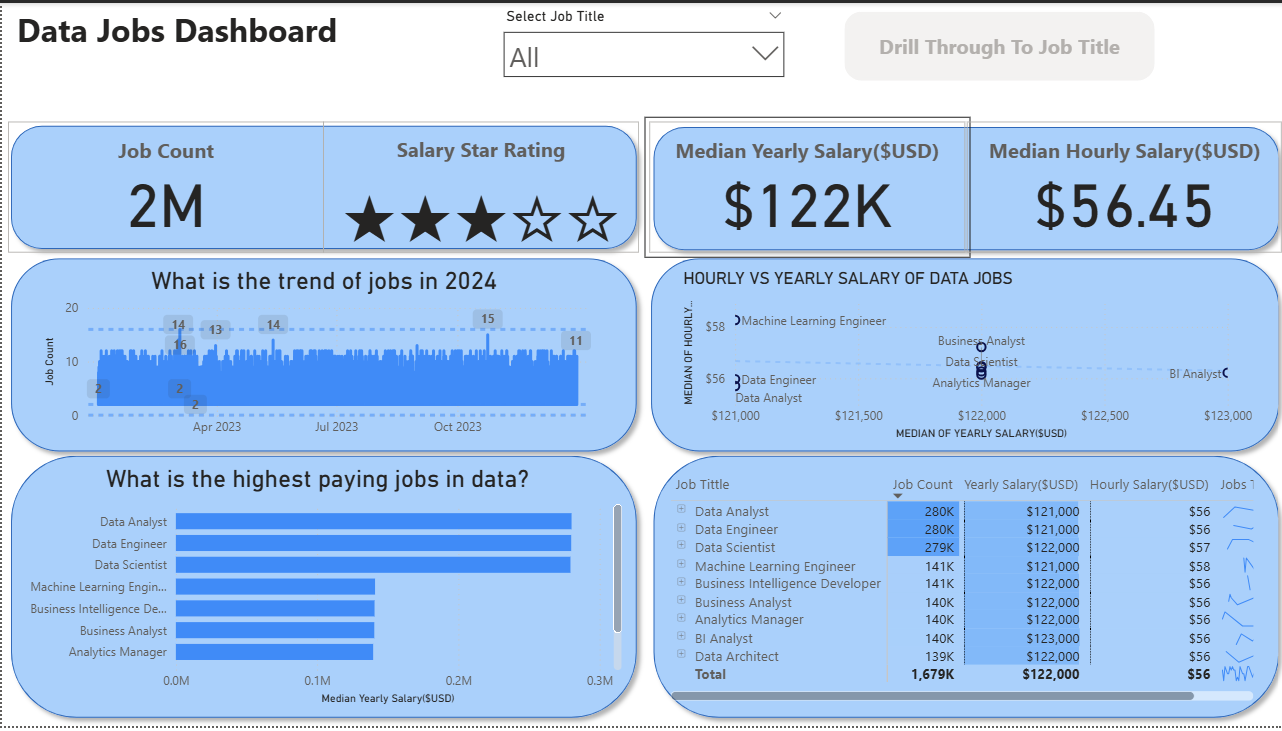

The dashboard page shown, as its layout file describes it:
{"tool":"powerbi","page":{"name":"Data Jobs Dashboard","canvas":[1280,720],"ordinal":0},"visuals":[{"type":"group","id":"g1","title":"Background","box":[0,113.2,1280,607.1],"z":0},{"type":"shape","box":[0,113.2,640.6,140.6],"z":0,"group":"g1"},{"type":"textbox","box":[10,0,338.4,52.2],"z":1000},{"type":"shape","box":[639.4,114.4,640.6,140.6],"z":1000,"group":"g1"},{"type":"slicer","fields":{"Values":["jobs_posting_flat.job_title_short"]},"box":[488.9,0,299.8,77.1],"z":2000},{"type":"shape","box":[0,245.1,640.6,210.2],"z":2000,"group":"g1"},{"type":"cardVisual","fields":{"Data":["Median(jobs_posting_flat.salary_year_avg)"]},"box":[639.4,113.2,324.7,140.6],"z":3000},{"type":"shape","box":[636.9,245.1,643.1,210.2],"z":3000,"group":"g1"},{"type":"cardVisual","fields":{"Data":["Median(jobs_posting_flat.salary_hour_avg)"]},"box":[955.4,113.2,324.7,140.6],"z":4000},{"type":"shape","box":[0,441.6,640.6,278.6],"z":4000,"group":"g1"},{"type":"cardVisual","fields":{"Data":["jobs_posting_flat.Salary Star Rating"]},"box":[314.7,113.2,324.7,140.6],"z":5000},{"type":"shape","box":[639.4,441.6,640.6,278.6],"z":5000,"group":"g1"},{"type":"cardVisual","fields":{"Data":["CountNonNull(jobs_posting_flat.job_title_short)"]},"box":[1.2,113.2,324.7,140.6],"z":6000},{"type":"lineChart","title":"What is the trend of jobs in 2024","fields":{"Y":["CountNonNull(jobs_posting_flat.job_title_short)"],"Category":["jobs_posting_flat.job_posted_date"]},"box":[37.3,262.5,566,177.9],"z":7000},{"type":"barChart","title":"What is the highest paying jobs in data?","fields":{"Category":["jobs_posting_flat.job_title_short"],"Y":["CountNonNull(jobs_posting_flat.job_title_short)"]},"box":[6.2,459,615.8,243.8],"z":8000},{"type":"scatterChart","title":"HOURLY VS YEARLY SALARY OF DATA JOBS","fields":{"X":["Median(jobs_posting_flat.salary_year_avg)"],"Y":["Median(jobs_posting_flat.salary_hour_avg)"],"Series":["jobs_posting_flat.job_title_short"]},"box":[673,263.7,576,175.4],"z":9000},{"type":"pivotTable","fields":{"Rows":["jobs_posting_flat.job_title_short","jobs_posting_flat.job_posted_date"],"Values":["CountNonNull(jobs_posting_flat.job_title_short)","Median(jobs_posting_flat.salary_year_avg)","Median(jobs_posting_flat.salary_hour_avg)","SparklineData(CountNonNull(jobs_posting_flat.job_title_short)_[jobs_posting_flat.job_posted_date])"]},"box":[660.5,464,589.6,235.1],"z":10000},{"type":"actionButton","box":[838.4,8.7,308.5,68.4],"z":12000}]}

Visuals, with their boxes in screenshot pixels (x1, y1, x2, y2), scaled from the page's 1280x720 canvas onto the 1282x731 screenshot:
"Background" group: (left=0, top=115, right=1281, bottom=730)
shape: (left=0, top=115, right=642, bottom=258)
textbox: (left=10, top=0, right=349, bottom=53)
shape: (left=640, top=116, right=1281, bottom=259)
slicer - jobs_posting_flat.job_title_short: (left=490, top=0, right=790, bottom=78)
shape: (left=0, top=249, right=642, bottom=462)
cardVisual - Median(jobs_posting_flat.salary_year_avg): (left=640, top=115, right=966, bottom=258)
shape: (left=638, top=249, right=1281, bottom=462)
cardVisual - Median(jobs_posting_flat.salary_hour_avg): (left=957, top=115, right=1281, bottom=258)
shape: (left=0, top=448, right=642, bottom=730)
cardVisual - jobs_posting_flat.Salary Star Rating: (left=315, top=115, right=640, bottom=258)
shape: (left=640, top=448, right=1281, bottom=730)
cardVisual - CountNonNull(jobs_posting_flat.job_title_short): (left=1, top=115, right=326, bottom=258)
"What is the trend of jobs in 2024" lineChart: (left=37, top=267, right=604, bottom=447)
"What is the highest paying jobs in data?" barChart: (left=6, top=466, right=623, bottom=714)
"HOURLY VS YEARLY SALARY OF DATA JOBS" scatterChart: (left=674, top=268, right=1251, bottom=446)
pivotTable - jobs_posting_flat.job_title_short x jobs_posting_flat.job_posted_date: (left=662, top=471, right=1252, bottom=710)
actionButton: (left=840, top=9, right=1149, bottom=78)
